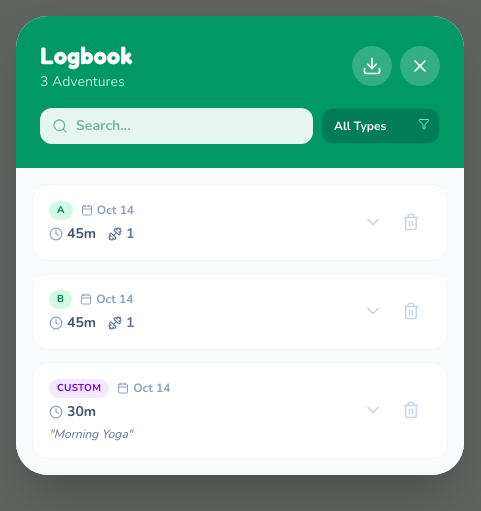
Test: HistoryModal Filtering › should show empty state when no match
Type "Zumba" into the field with placeholder "Search..." at (176, 126), box [40,108,313,144]
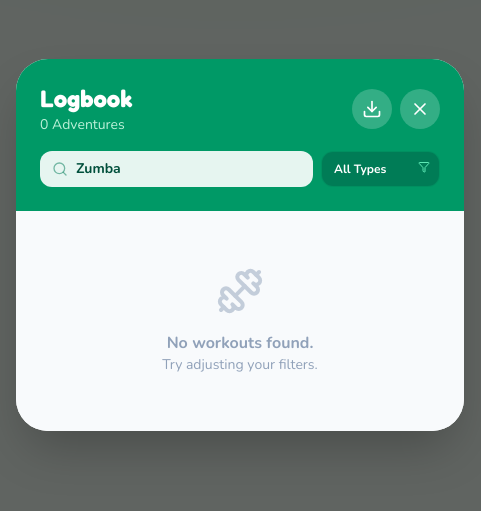
Now the text "No workouts found." is shown, box [167,332,313,354]
Now the text "Try adjusting your filters." is shown, box [162,355,318,374]
